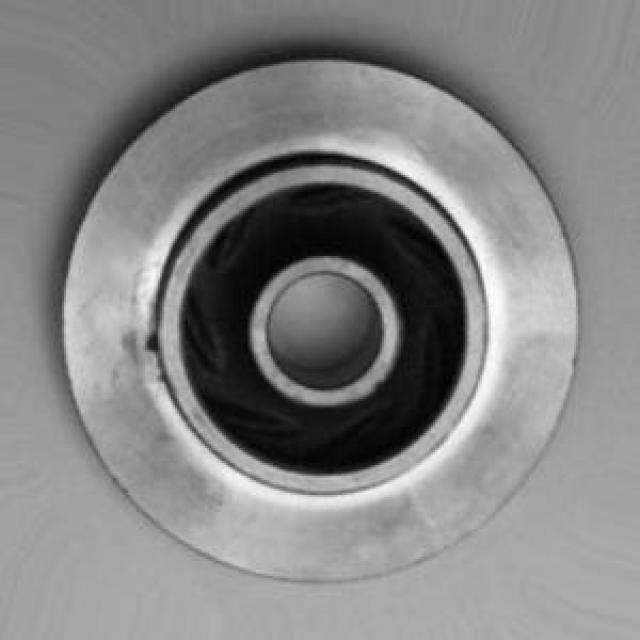Defect: (144, 328, 166, 358)
